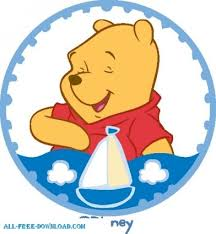Winnie: (59, 14, 167, 150)
